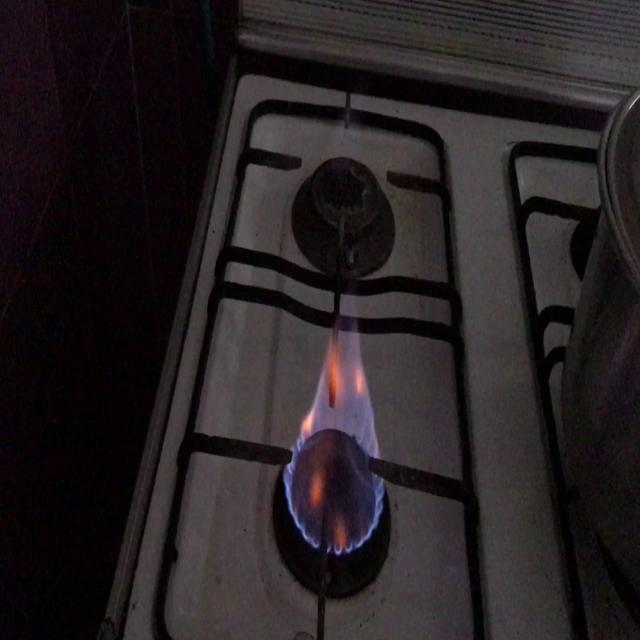Fire: (282, 312, 388, 554)
